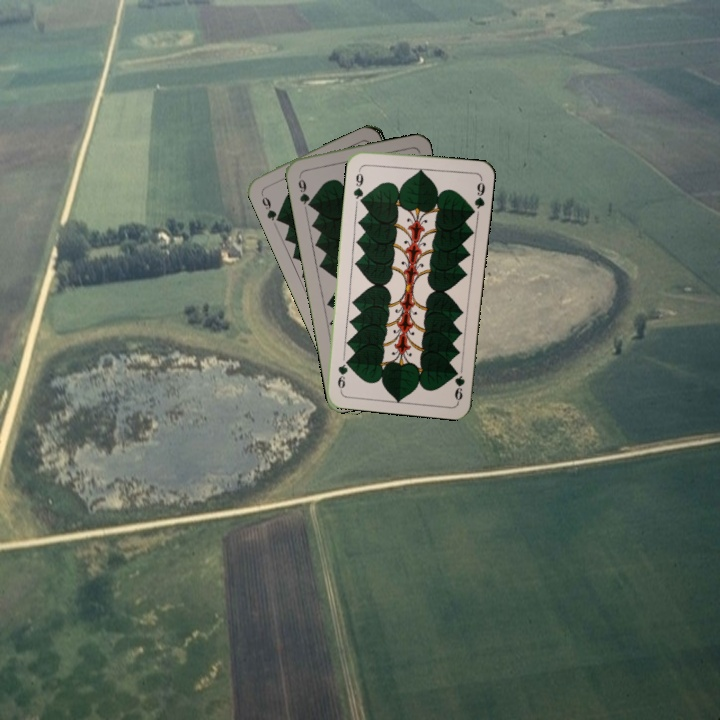G9: (257, 188, 283, 224), (294, 171, 314, 210), (349, 164, 366, 204), (450, 365, 467, 404)
